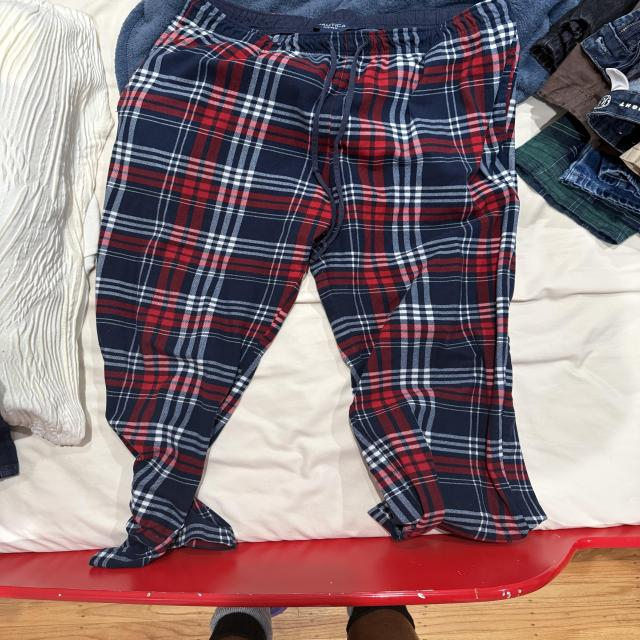back_tag: (304, 17, 360, 38)
